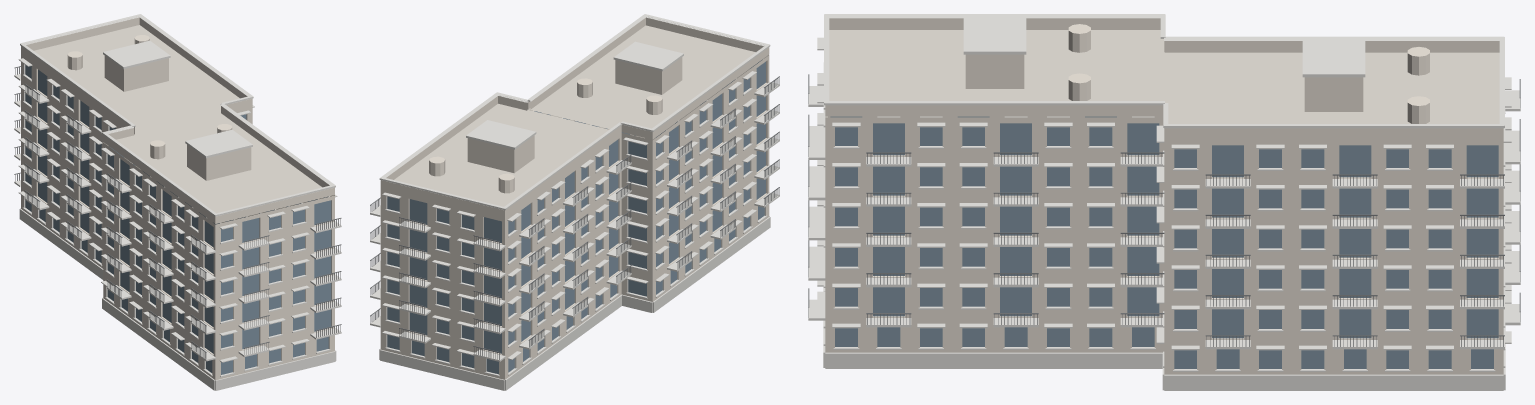
The model's file is Faculty_Residence_3.fbx.
The picture shows the model from 3 angles, left to right: view 1: azimuth 30°, elevation 25°; view 2: azimuth 150°, elevation 25°; view 3: azimuth 270°, elevation 25°; orthographic projection. The views are drawn at different scales.
Parts seen in each view (by area): view 1: Faculty_Residence_3; view 2: Faculty_Residence_3; view 3: Faculty_Residence_3.
Part boxes in pixels (x1,y1,x2,y2): Faculty_Residence_3: (14, 14, 341, 390); Faculty_Residence_3: (370, 14, 779, 390); Faculty_Residence_3: (808, 14, 1520, 390).
Bounding box in the file's own units: 22.6 × 24.51 × 54.6.
